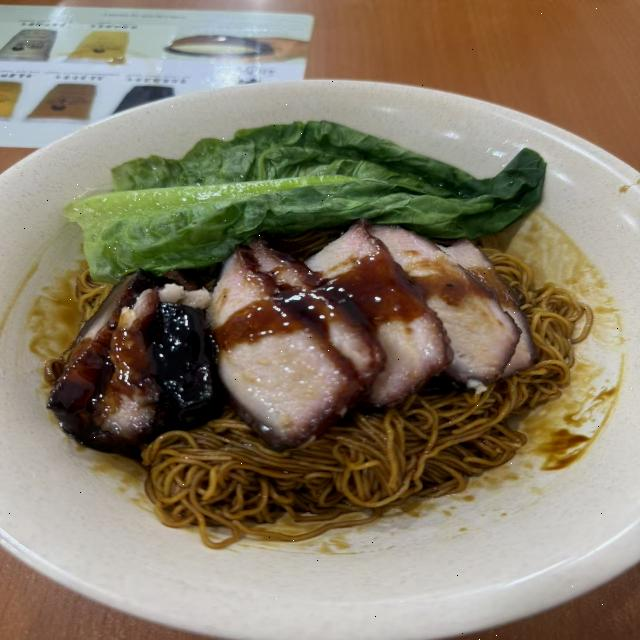Wantan Mee: (24, 84, 595, 566)
